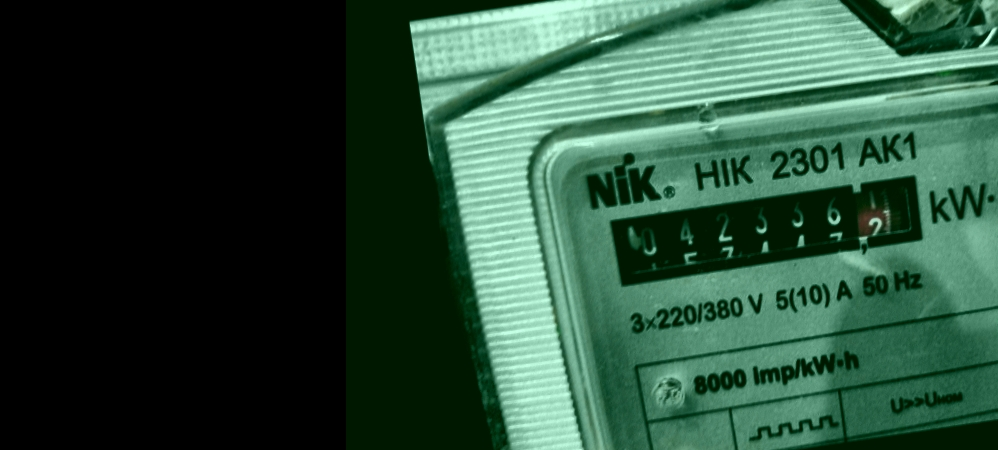0: (638, 223, 661, 258)
1: (865, 184, 880, 212)
2: (712, 207, 738, 244), (866, 215, 886, 238)
3: (749, 201, 771, 236), (788, 196, 809, 230)
4: (677, 213, 698, 247)
6: (822, 192, 847, 229)
screen: (597, 159, 942, 298)
